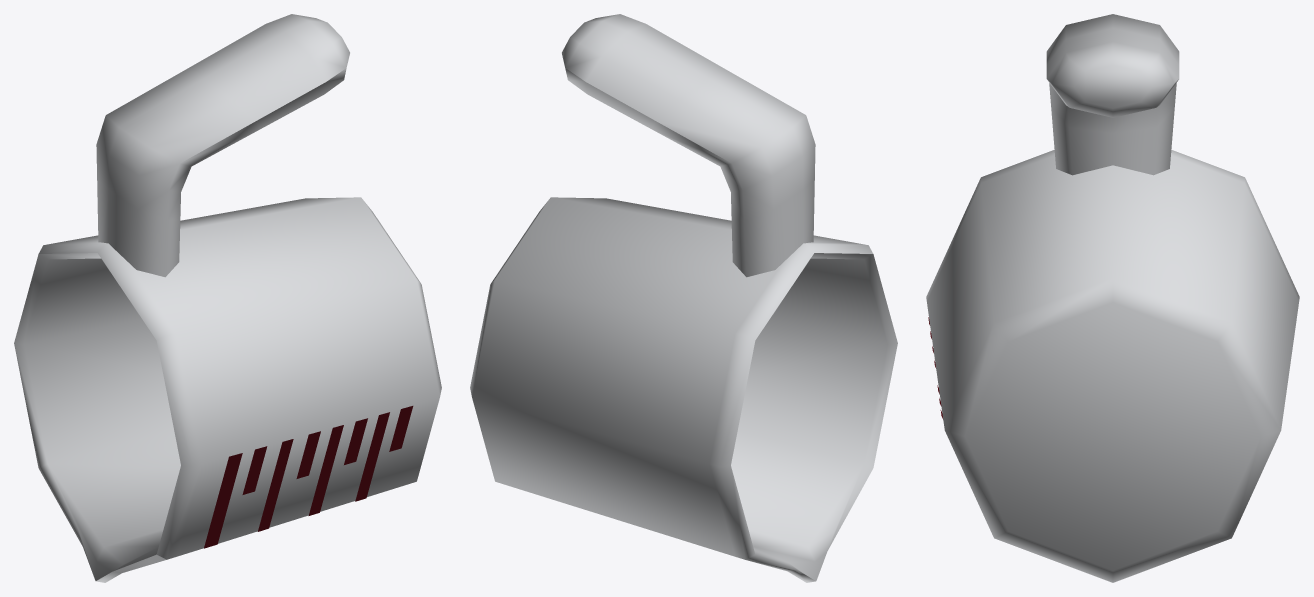
The model's file is measuring-cup.glb.
3 renders of one model, left to right at view 1: azimuth 30°, elevation 25°; view 2: azimuth 150°, elevation 25°; view 3: azimuth 270°, elevation 25°, orthographic. The views are drawn at different scales.
Parts seen in each view (by area): view 1: measuring-cup; view 2: measuring-cup; view 3: measuring-cup.
Boxes of the visible parts, bbox=[...] form: measuring-cup: bbox=[14, 14, 441, 582]; measuring-cup: bbox=[470, 14, 897, 582]; measuring-cup: bbox=[926, 14, 1299, 582].
Size of the model in its own units: 0.0623 by 0.11 by 0.0681.
